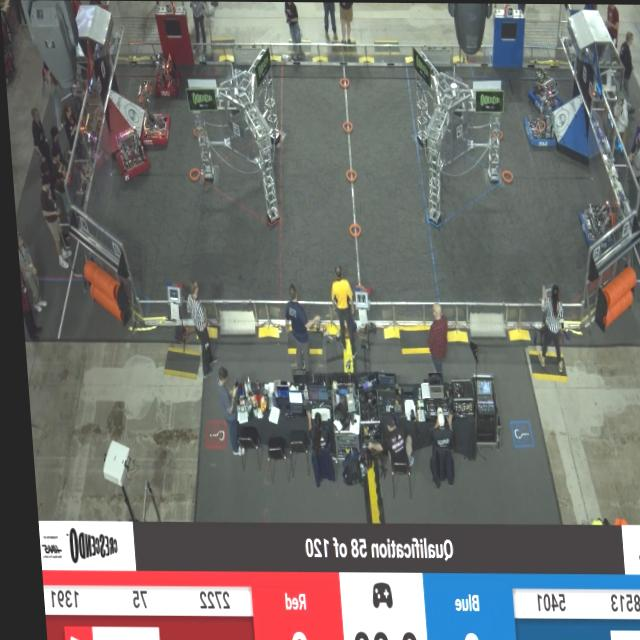Robot: (134, 78, 172, 155), (109, 122, 150, 186), (573, 193, 616, 253), (523, 61, 563, 119), (521, 106, 560, 158), (149, 46, 181, 102)
